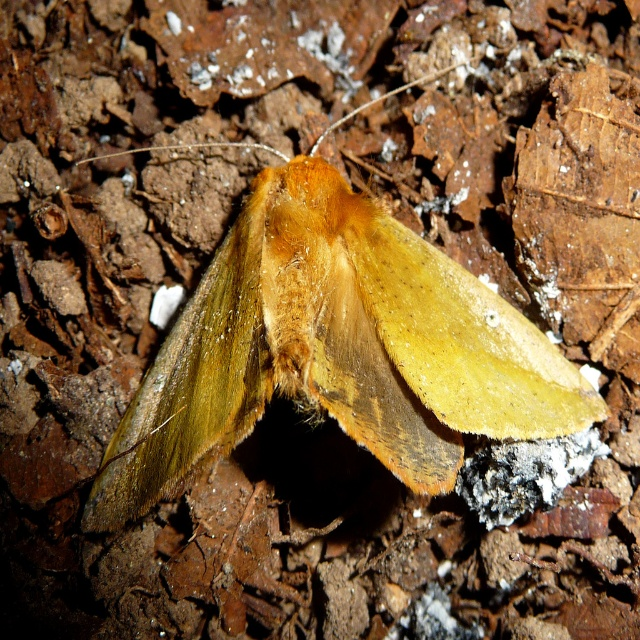Moths and butterflies: (75, 53, 614, 542)
